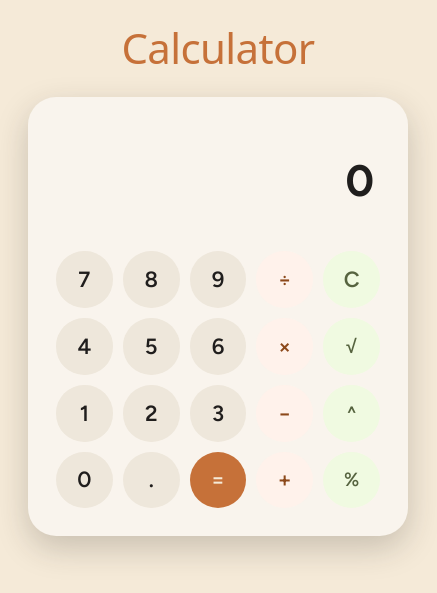
Scenario: backend errors are surfaced (ADR-0005) › renders the API error message for division by zero
Click the button "5" at (151, 346), box [123, 318, 180, 375]
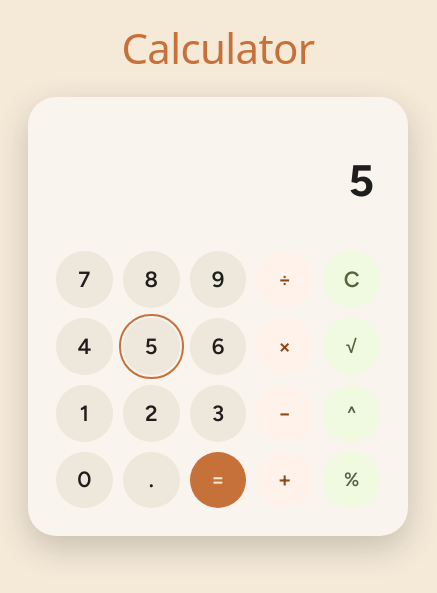
Click the button named "divide" at (285, 280), box [256, 251, 313, 308]
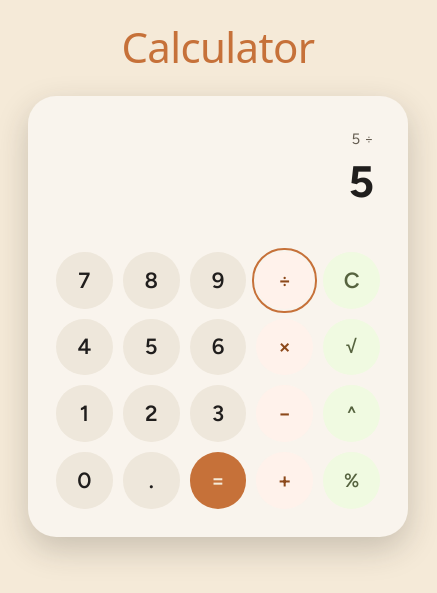
Click the button "0" at (84, 480), box [56, 452, 113, 509]
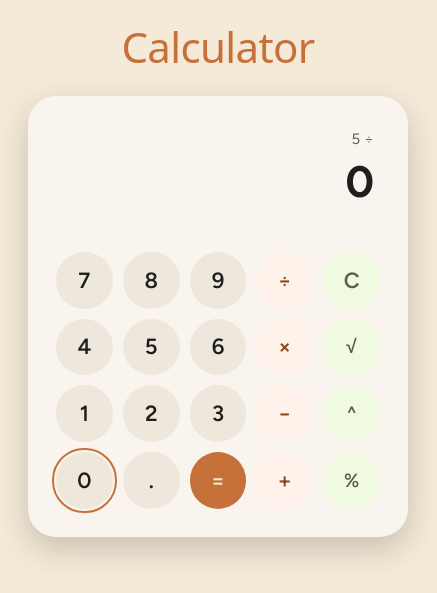
Click the button named "equals" at (218, 480), box [190, 452, 246, 509]
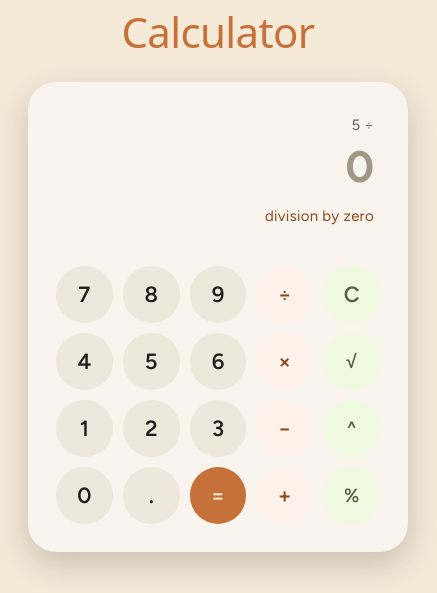
Expected: the message reads "division by zero", [265, 207, 374, 225]
